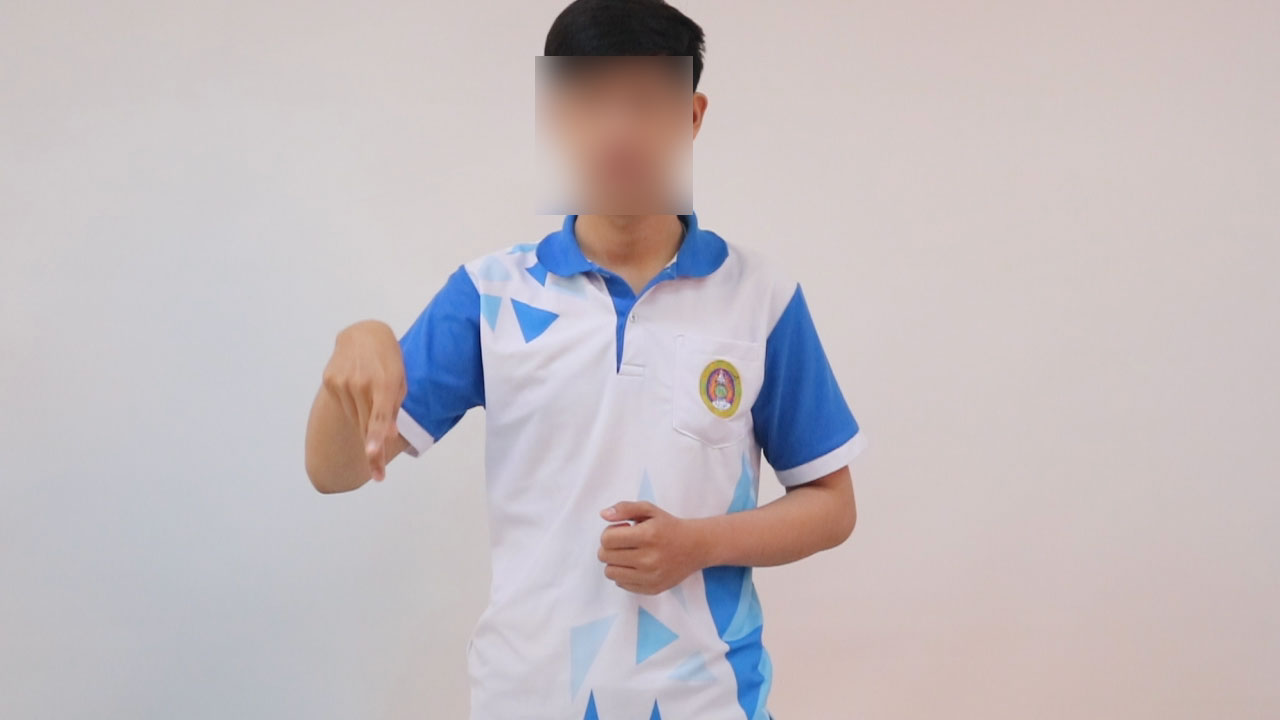por: (310, 308, 423, 492)
